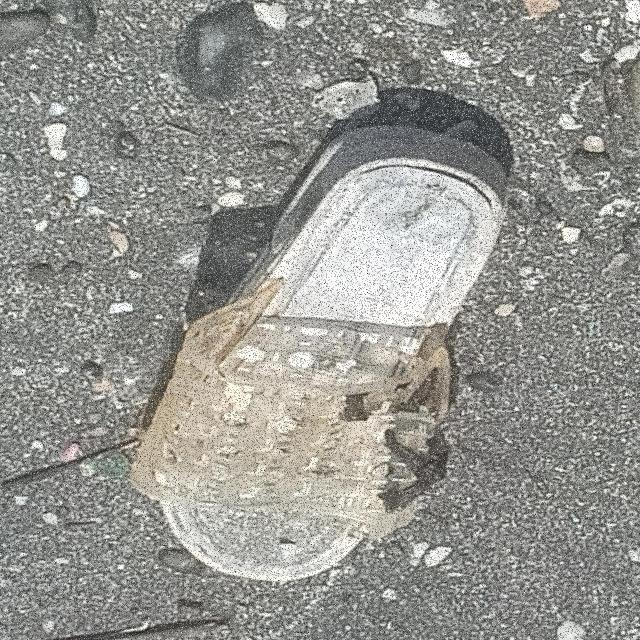rubber_waste: (127, 129, 513, 586)
